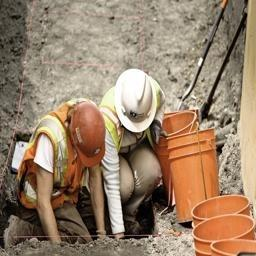hat: (113, 68, 159, 132), (68, 104, 110, 165)
